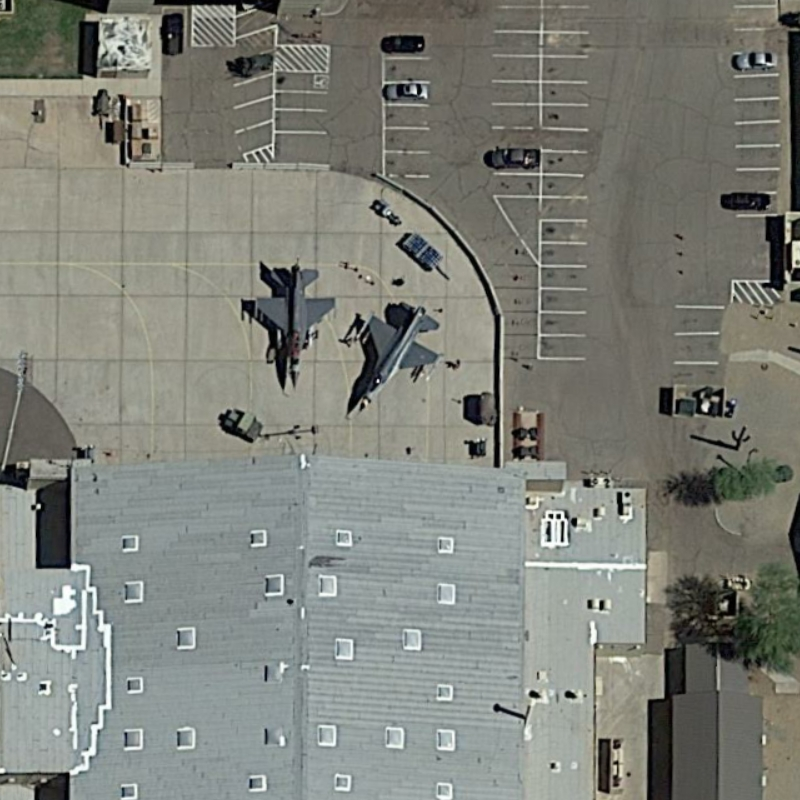A5: (238, 253, 340, 391), (347, 290, 445, 418)
